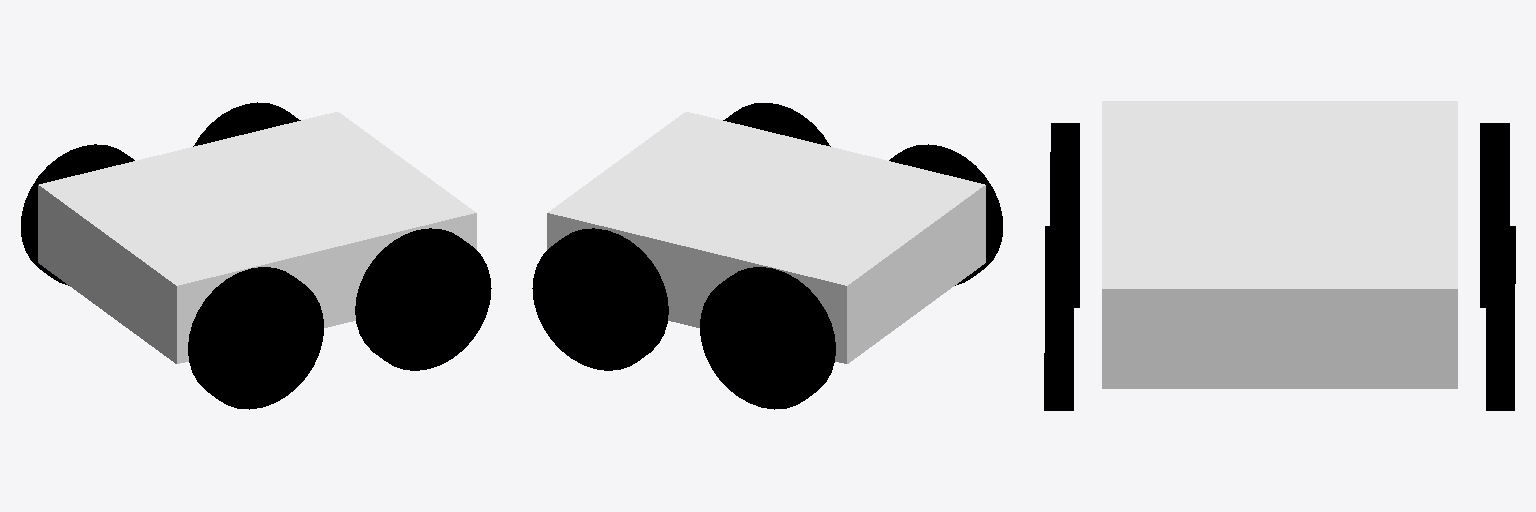
URDF robot description (wheeltec_robot):
<?xml version="1.0" ?>
<robot name="wheeltec_robot">

    <link name="base_link">
        <visual>
            <origin xyz="-0.16 0 0.16" rpy="0 0 0" />
            <geometry>
                <box size="0.6 0.48 0.150"/>
            </geometry>
            <material name="white">
                <color rgba="1 1 1 1"/>
            </material>
        </visual>
    </link>   

    <joint name="left_wheel_joint" type="continuous">
        <origin xyz="-0.33 0.29 0.125" rpy="1.57 0 0"/>
        <parent link="base_link"/>
        <child link="left_wheel_link"/>
        <axis xyz="0 1 0"/>
    </joint>

    <link name="left_wheel_link">
        <visual>
            <origin xyz="0 0 0" rpy="0 0 0" />
            <geometry>
                <cylinder radius="0.125" length = "0.04"/>
            </geometry>
            <material name="black">
                <color rgba="0 0 0 1"/>
            </material>
        </visual>
    </link>

    <joint name="right_wheel_joint" type="continuous">
        <origin xyz="-0.33 -0.29 0.125" rpy="1.57 0 0"/>
        <parent link="base_link"/>
        <child link="right_wheel_link"/>
        <axis xyz="0 1 0"/>
    </joint>

    <link name="right_wheel_link">
        <visual>
            <origin xyz="0 0 0" rpy="0 0 0" />
            <geometry>
                <cylinder radius="0.125" length = "0.04"/>
            </geometry>
            <material name="black">
                <color rgba="0 0 0 1"/>
            </material>
        </visual>
    </link>

      <joint name="left_front_joint" type="continuous">
        <origin xyz="0.0 0.298 0.125" rpy="1.57 0 0"/>
        <parent link="base_link"/>
        <child link="left_front_link"/>
        <axis xyz="0 1 0"/>
    </joint>

    <link name="left_front_link">
        <visual>
            <origin xyz="0 0 0" rpy="0 0 0" />
            <geometry>
                <cylinder radius="0.125" length = "0.04"/>
            </geometry>
            <material name="black">
                <color rgba="0 0 0 1"/>
            </material>
        </visual>
    </link>

    <joint name="right_front_joint" type="continuous">
        <origin xyz="0.0 -0.298 0.125" rpy="1.57 0 0"/>
        <parent link="base_link"/>
        <child link="right_front_link"/>
        <axis xyz="0 1 0"/>
    </joint>

    <link name="right_front_link">
        <visual>
            <origin xyz="0 0 0" rpy="0 0 0" />
            <geometry>
                <cylinder radius="0.125" length = "0.04"/>
            </geometry>
            <material name="black">
                <color rgba="0 0 0 1"/>
            </material>
        </visual>
    </link>


</robot>

--- Facts derived from the render (not from the file) ---
Views: 3 orthographic renders of the robot side by side, from view 1: azimuth 30°, elevation 25°; view 2: azimuth 150°, elevation 25°; view 3: azimuth 270°, elevation 25°.
Model wheeltec_robot with 5 links and 4 joints (4 continuous), rooted at base_link, posed all joints at 0.
Links seen in each view (by area): view 1: base_link, right_wheel_link, right_front_link, left_wheel_link, left_front_link; view 2: base_link, left_front_link, left_wheel_link, right_wheel_link, right_front_link; view 3: base_link, left_front_link, right_front_link, left_wheel_link, right_wheel_link.
Boxes of the visible links, x1,y1,x2,y2 form: base_link: [38, 112, 476, 363]; right_wheel_link: [188, 267, 323, 409]; right_front_link: [355, 228, 491, 370]; left_wheel_link: [21, 144, 134, 285]; left_front_link: [193, 102, 300, 146]; base_link: [547, 112, 985, 363]; left_front_link: [532, 228, 668, 370]; left_wheel_link: [700, 267, 835, 409]; right_wheel_link: [889, 144, 1002, 285]; right_front_link: [723, 103, 830, 146]; base_link: [1102, 101, 1457, 388]; left_front_link: [1486, 226, 1515, 410]; right_front_link: [1044, 226, 1073, 410]; left_wheel_link: [1480, 123, 1509, 307]; right_wheel_link: [1050, 123, 1079, 307].
Size in the robot's own frame: 0.6 by 0.6362 by 0.25 metres.
Geometry: primitives only (box / cylinder / sphere), no mesh files.